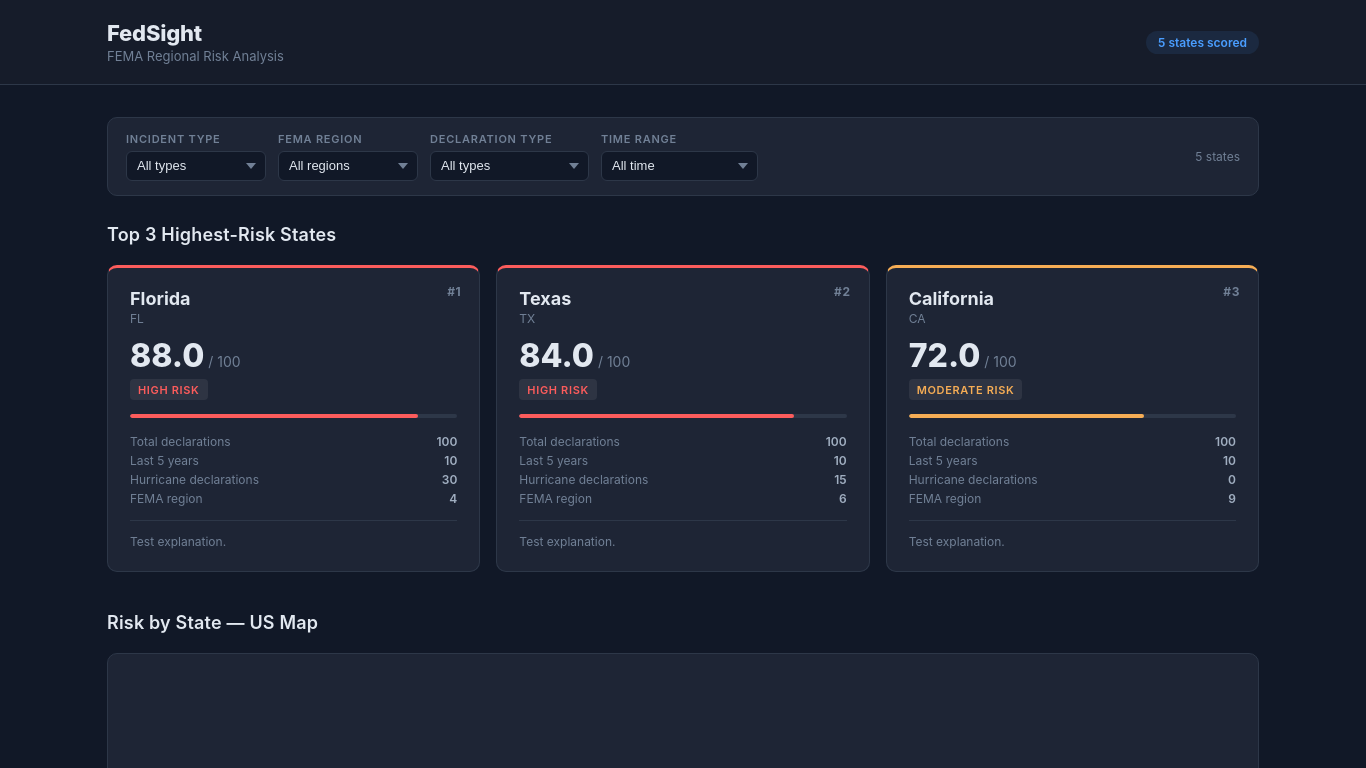
Test: App — filter integration › Clear button resets to all 5 states
Select "Hurricane" in the dropdown labelled "Incident type" at (196, 166), box [126,151,266,181]
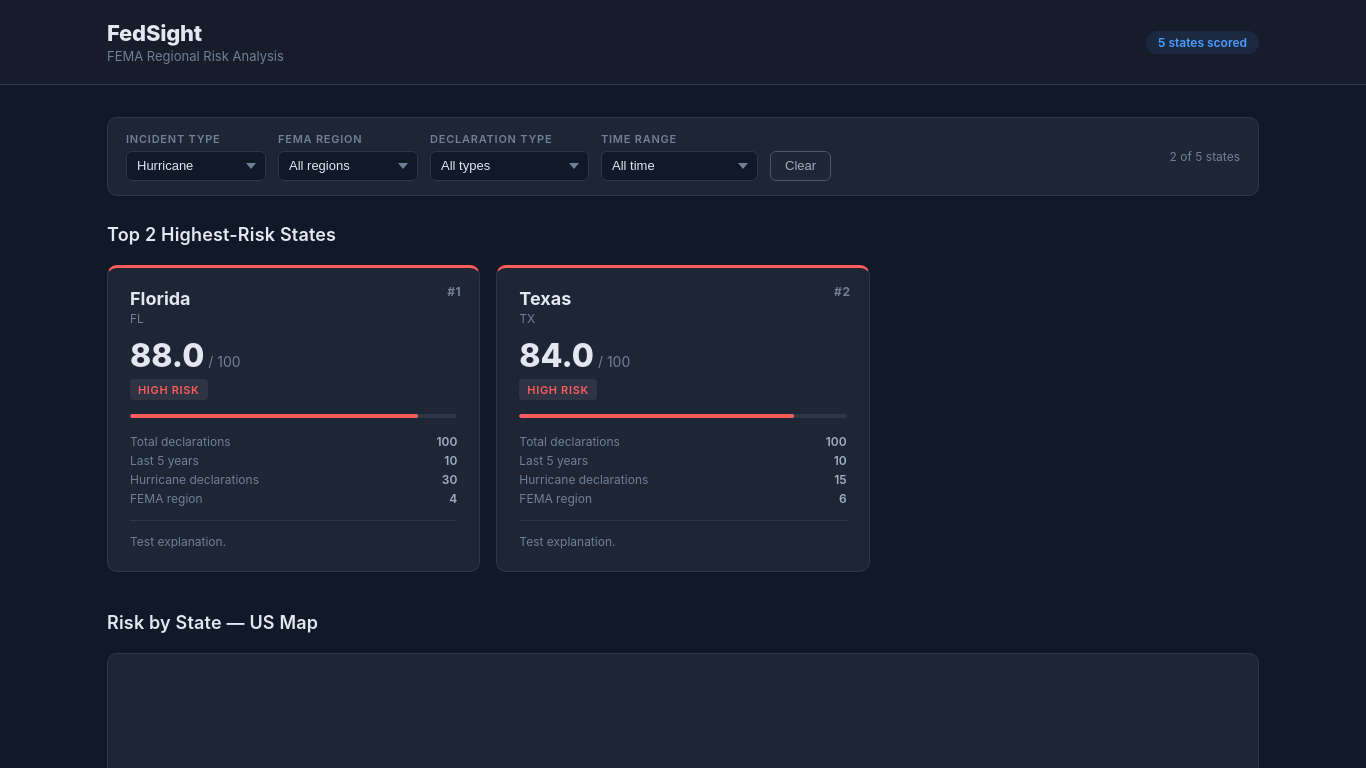
Click the button "Clear" at (801, 166), box [770,151,831,181]
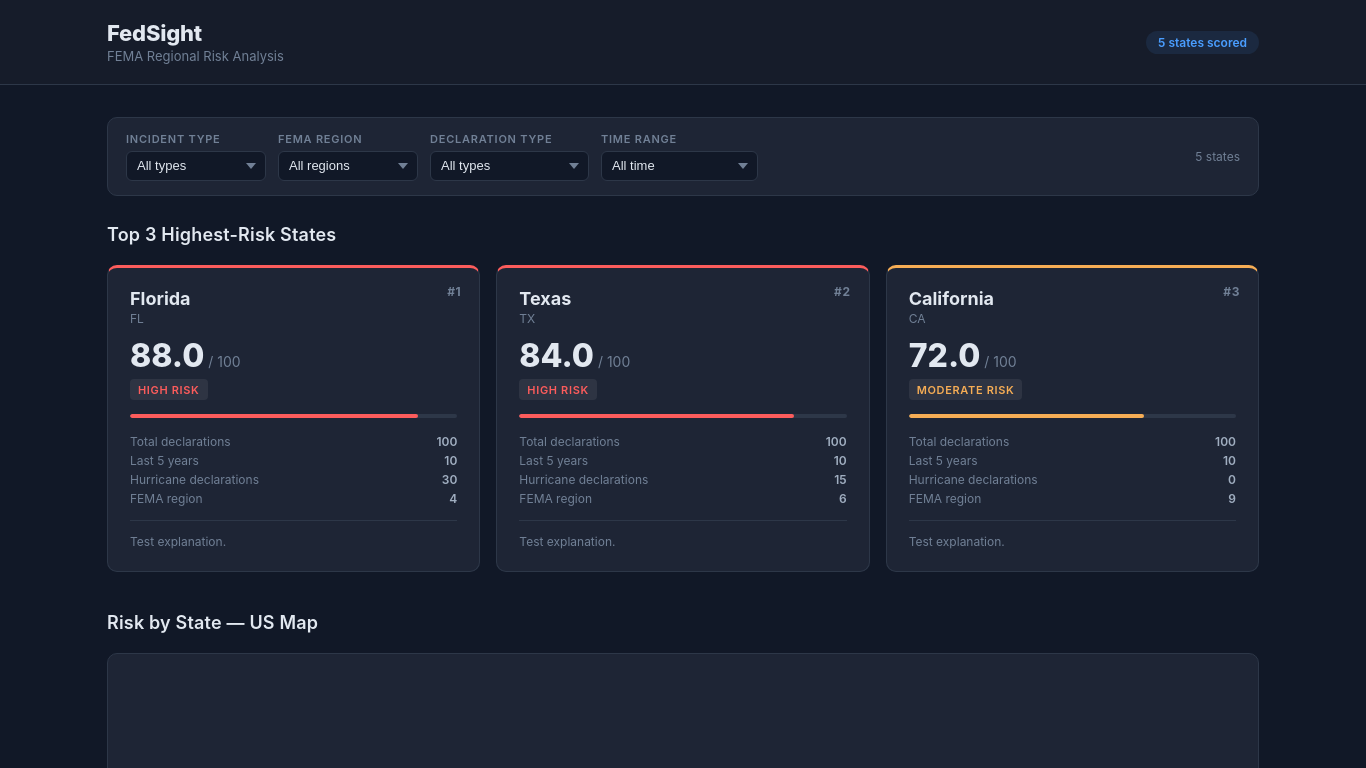
Expected: the text "5 states" is shown, [1195,149,1240,164]
Expected: the button "Clear" is gone
